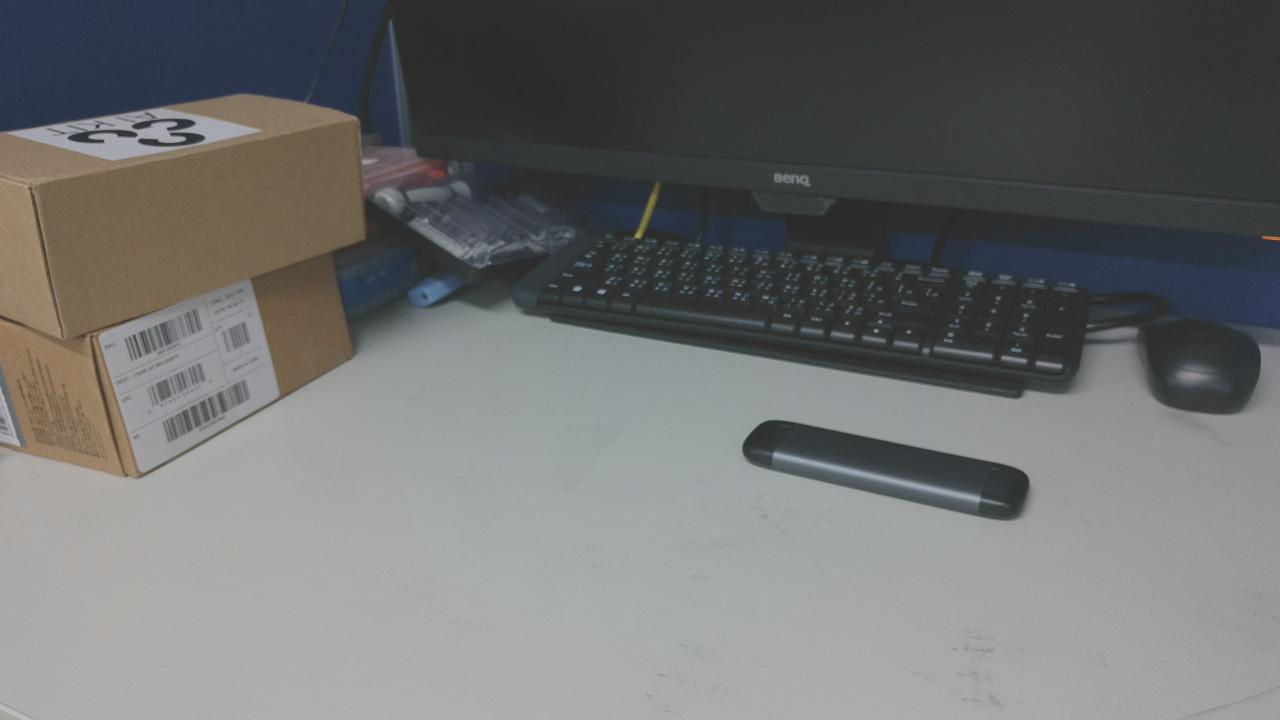columnar: (732, 437, 848, 653)
